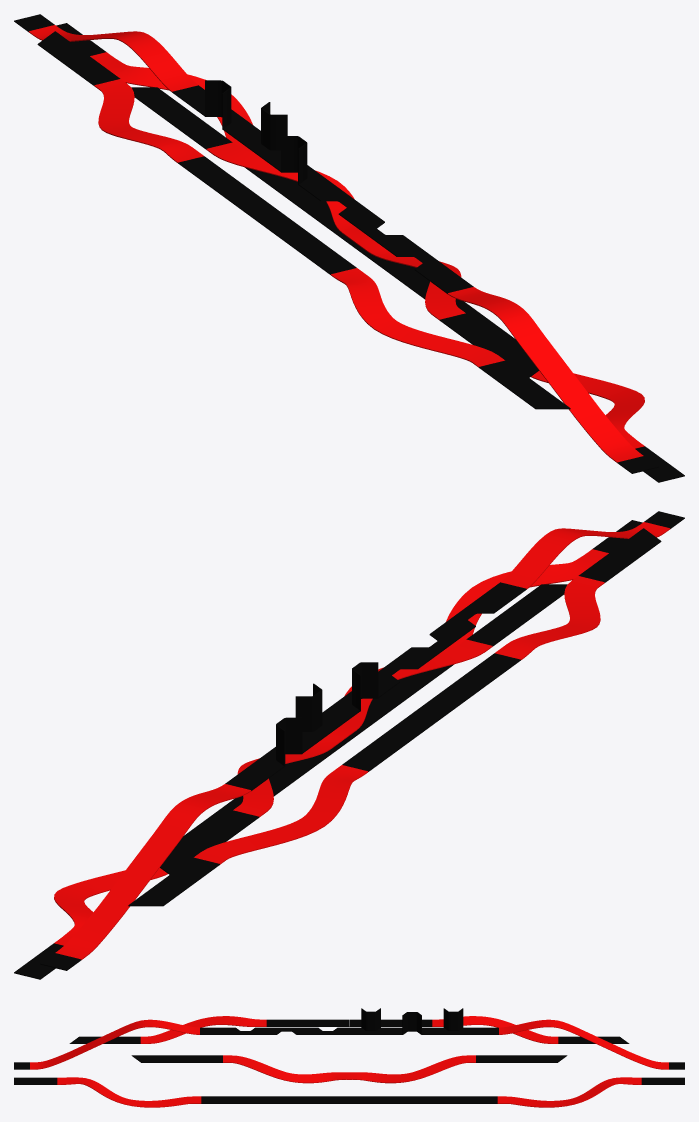
Rendered from intenso.FBX.
3 renders of one model, top to bottom at view 1: azimuth 30°, elevation 25°; view 2: azimuth 150°, elevation 25°; view 3: azimuth 270°, elevation 25°, orthographic. The views are drawn at different scales.
Visible parts, largest first — view 1: Object056; view 2: Object056; view 3: Object056.
Part boxes in pixels (<box>): Object056: <box>14,14,684,482</box>; Object056: <box>14,511,684,979</box>; Object056: <box>14,1008,684,1107</box>.
Bounding box in the file's own units: 4518 × 2790 × 24315.
